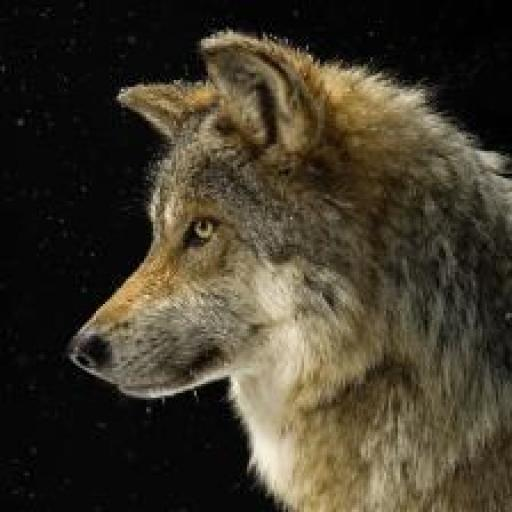wolf: (66, 27, 512, 510)
